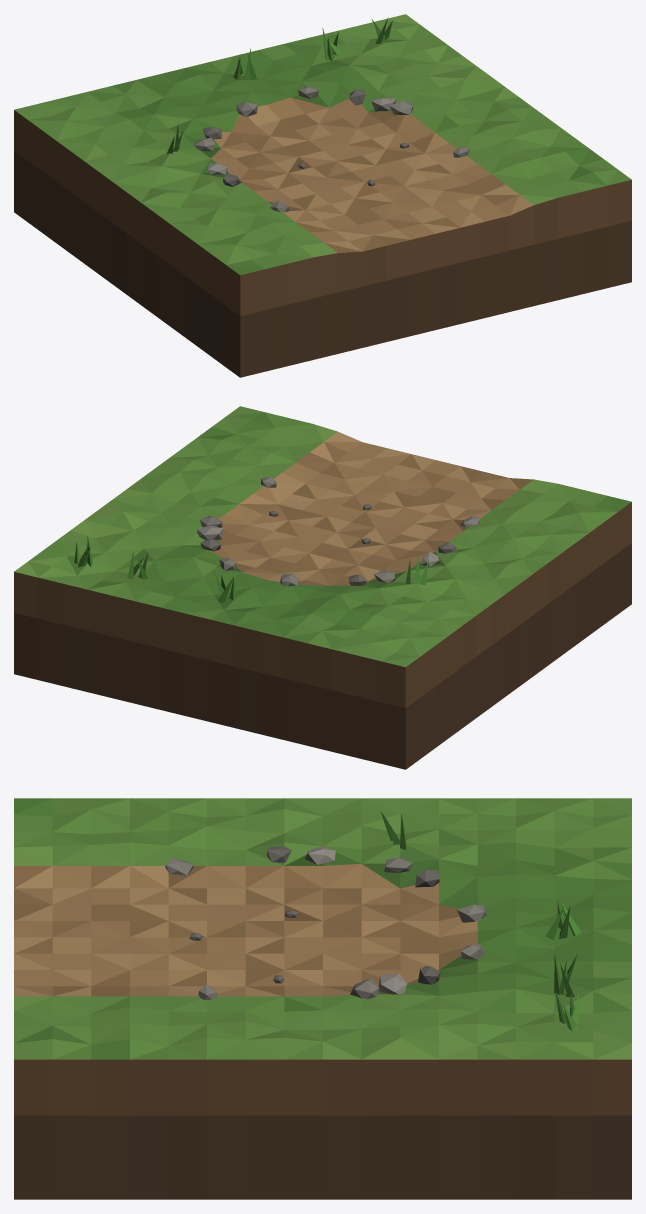
The model's file is road_end.glb.
3 views of the same model, one above another, from view 1: azimuth 30°, elevation 25°; view 2: azimuth 150°, elevation 25°; view 3: azimuth 270°, elevation 25° (orthographic). The views are drawn at different scales.
Parts seen in each view (by area): view 1: RoadEnd; view 2: RoadEnd; view 3: RoadEnd.
Part boxes in pixels (x1,y1,x2,y2): RoadEnd: (14,14,631,377); RoadEnd: (14,406,631,769); RoadEnd: (14,798,631,1199).
Size of the model in its own units: 2 by 0.6409 by 2.
